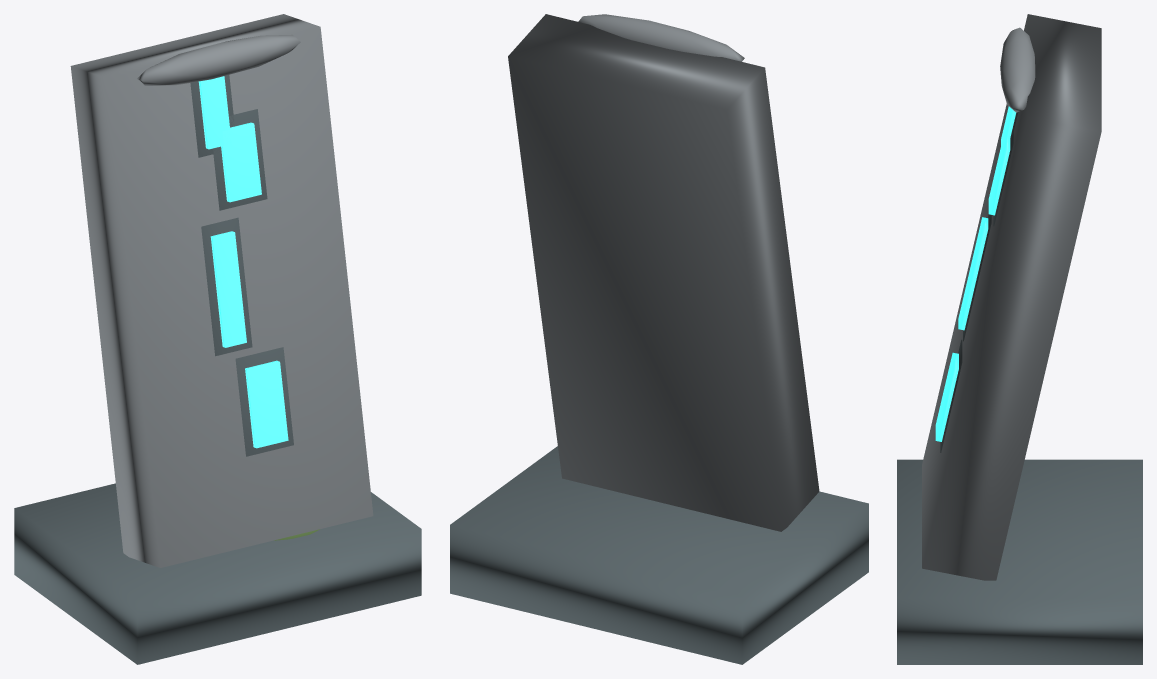
File: 3D模型 props_rune_stone.glb
The picture shows the model from 3 angles, left to right: view 1: azimuth 30°, elevation 25°; view 2: azimuth 150°, elevation 25°; view 3: azimuth 270°, elevation 25°; orthographic projection. The views are drawn at different scales.
Parts seen in each view (by area): view 1: part_slab, part_mound, part_slab_cap, part_rune_0, part_rune_1, part_rune_2, part_groove_1, part_groove_0, part_rune_3, part_groove_2, part_groove_3; view 2: part_slab, part_mound, part_slab_cap; view 3: part_slab, part_mound, part_slab_cap, part_rune_1, part_rune_0, part_rune_2.
Part boxes in pixels (bbox=[...]): part_slab: bbox=[70, 14, 373, 567]; part_mound: bbox=[14, 483, 421, 664]; part_slab_cap: bbox=[137, 34, 300, 85]; part_rune_0: bbox=[245, 360, 288, 448]; part_rune_1: bbox=[210, 231, 246, 347]; part_rune_2: bbox=[221, 122, 261, 202]; part_groove_1: bbox=[201, 217, 252, 356]; part_groove_0: bbox=[235, 347, 293, 456]; part_rune_3: bbox=[198, 76, 231, 149]; part_groove_2: bbox=[213, 109, 267, 210]; part_groove_3: bbox=[190, 75, 234, 157]; part_slab: bbox=[508, 14, 819, 531]; part_mound: bbox=[450, 446, 868, 664]; part_slab_cap: bbox=[578, 14, 744, 61]; part_slab: bbox=[922, 14, 1101, 580]; part_mound: bbox=[897, 459, 1142, 664]; part_slab_cap: bbox=[1000, 27, 1035, 112]; part_rune_1: bbox=[958, 217, 988, 330]; part_rune_0: bbox=[935, 352, 958, 441]; part_rune_2: bbox=[988, 134, 1010, 215].
Bounding box in the file's own units: 0.8 × 1.48 × 0.6.
